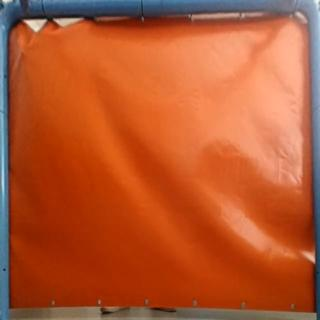Hit-hRxx: (15, 43, 30, 63)
